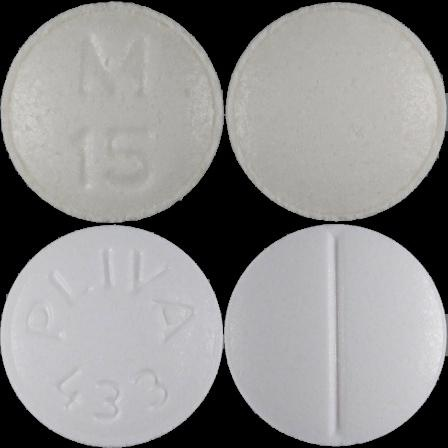0179-0276: (0, 0, 224, 224)
